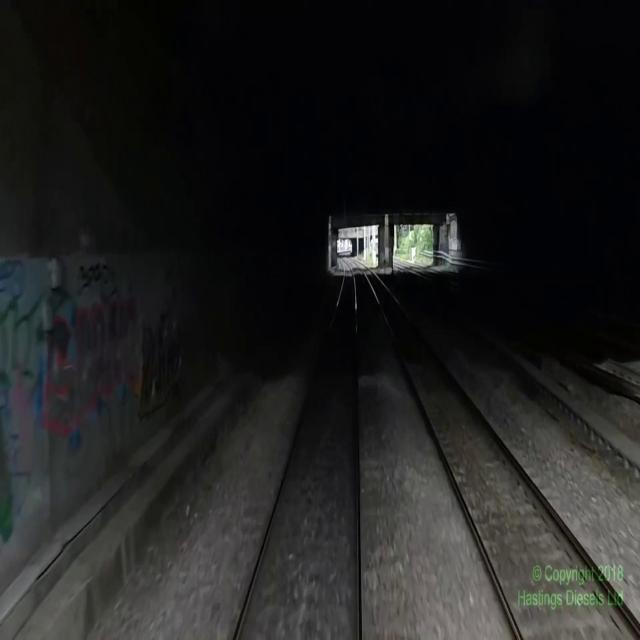rail-track: (354, 260, 638, 639), (237, 252, 356, 639)
